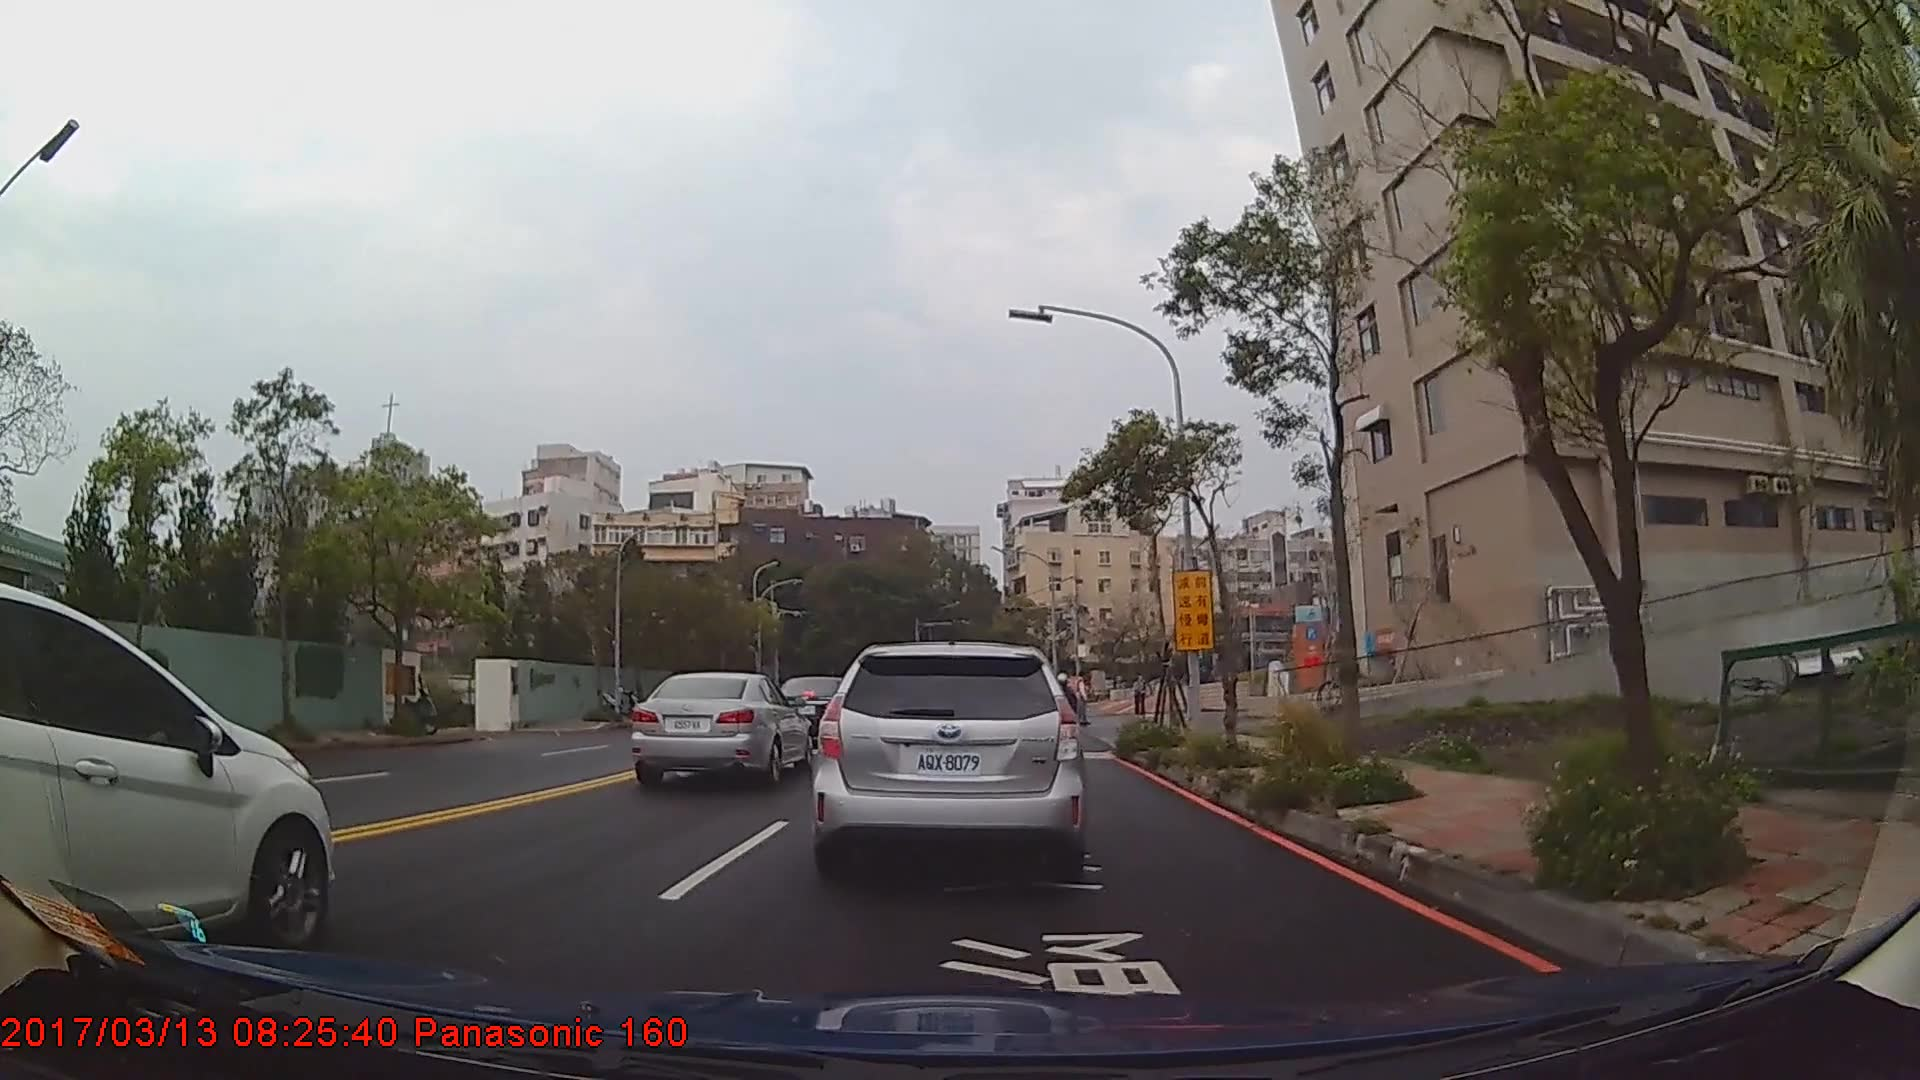pedestrian: (1073, 669, 1093, 727)
vehicle: (0, 577, 335, 961), (813, 638, 1084, 875), (629, 671, 814, 790)
